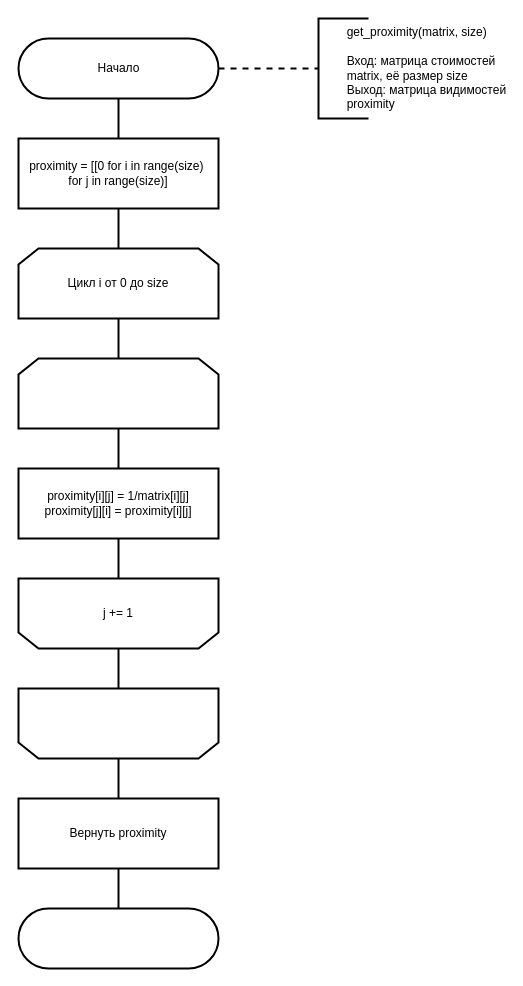
Some shapes in this 523 by 986 pixel diagram are drawn without their labels. The centre of each missing label's shape, as x and y in pixels:
i += 1: (118,723)
Конец: (118,938)
Цикл j от 0 до i: (118,393)
